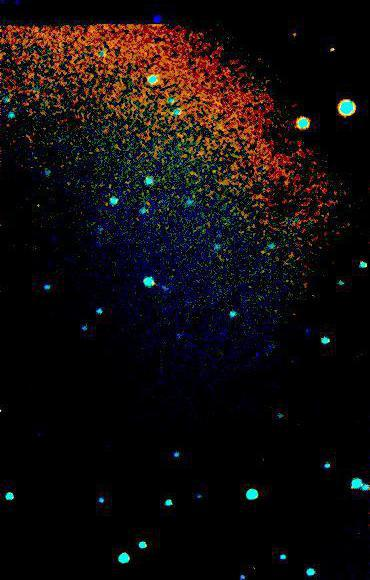star: (279, 20, 309, 50)
